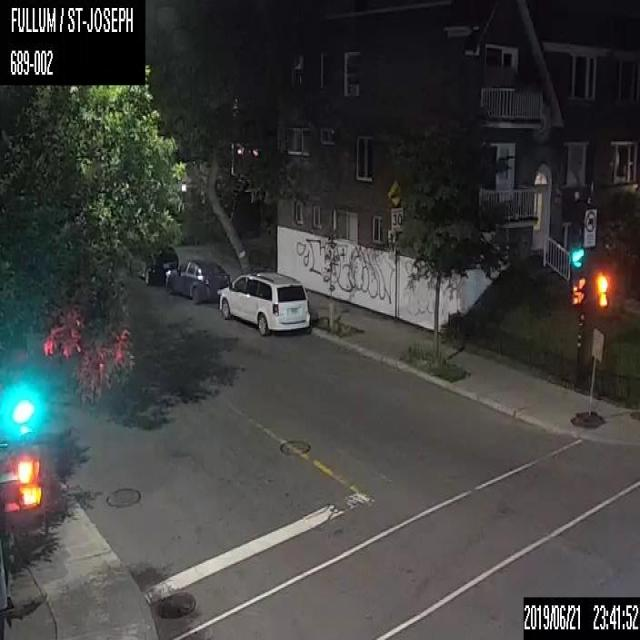construction: (570, 328, 604, 428)
vehicle: (219, 271, 311, 336), (164, 256, 230, 303), (126, 245, 178, 284)
